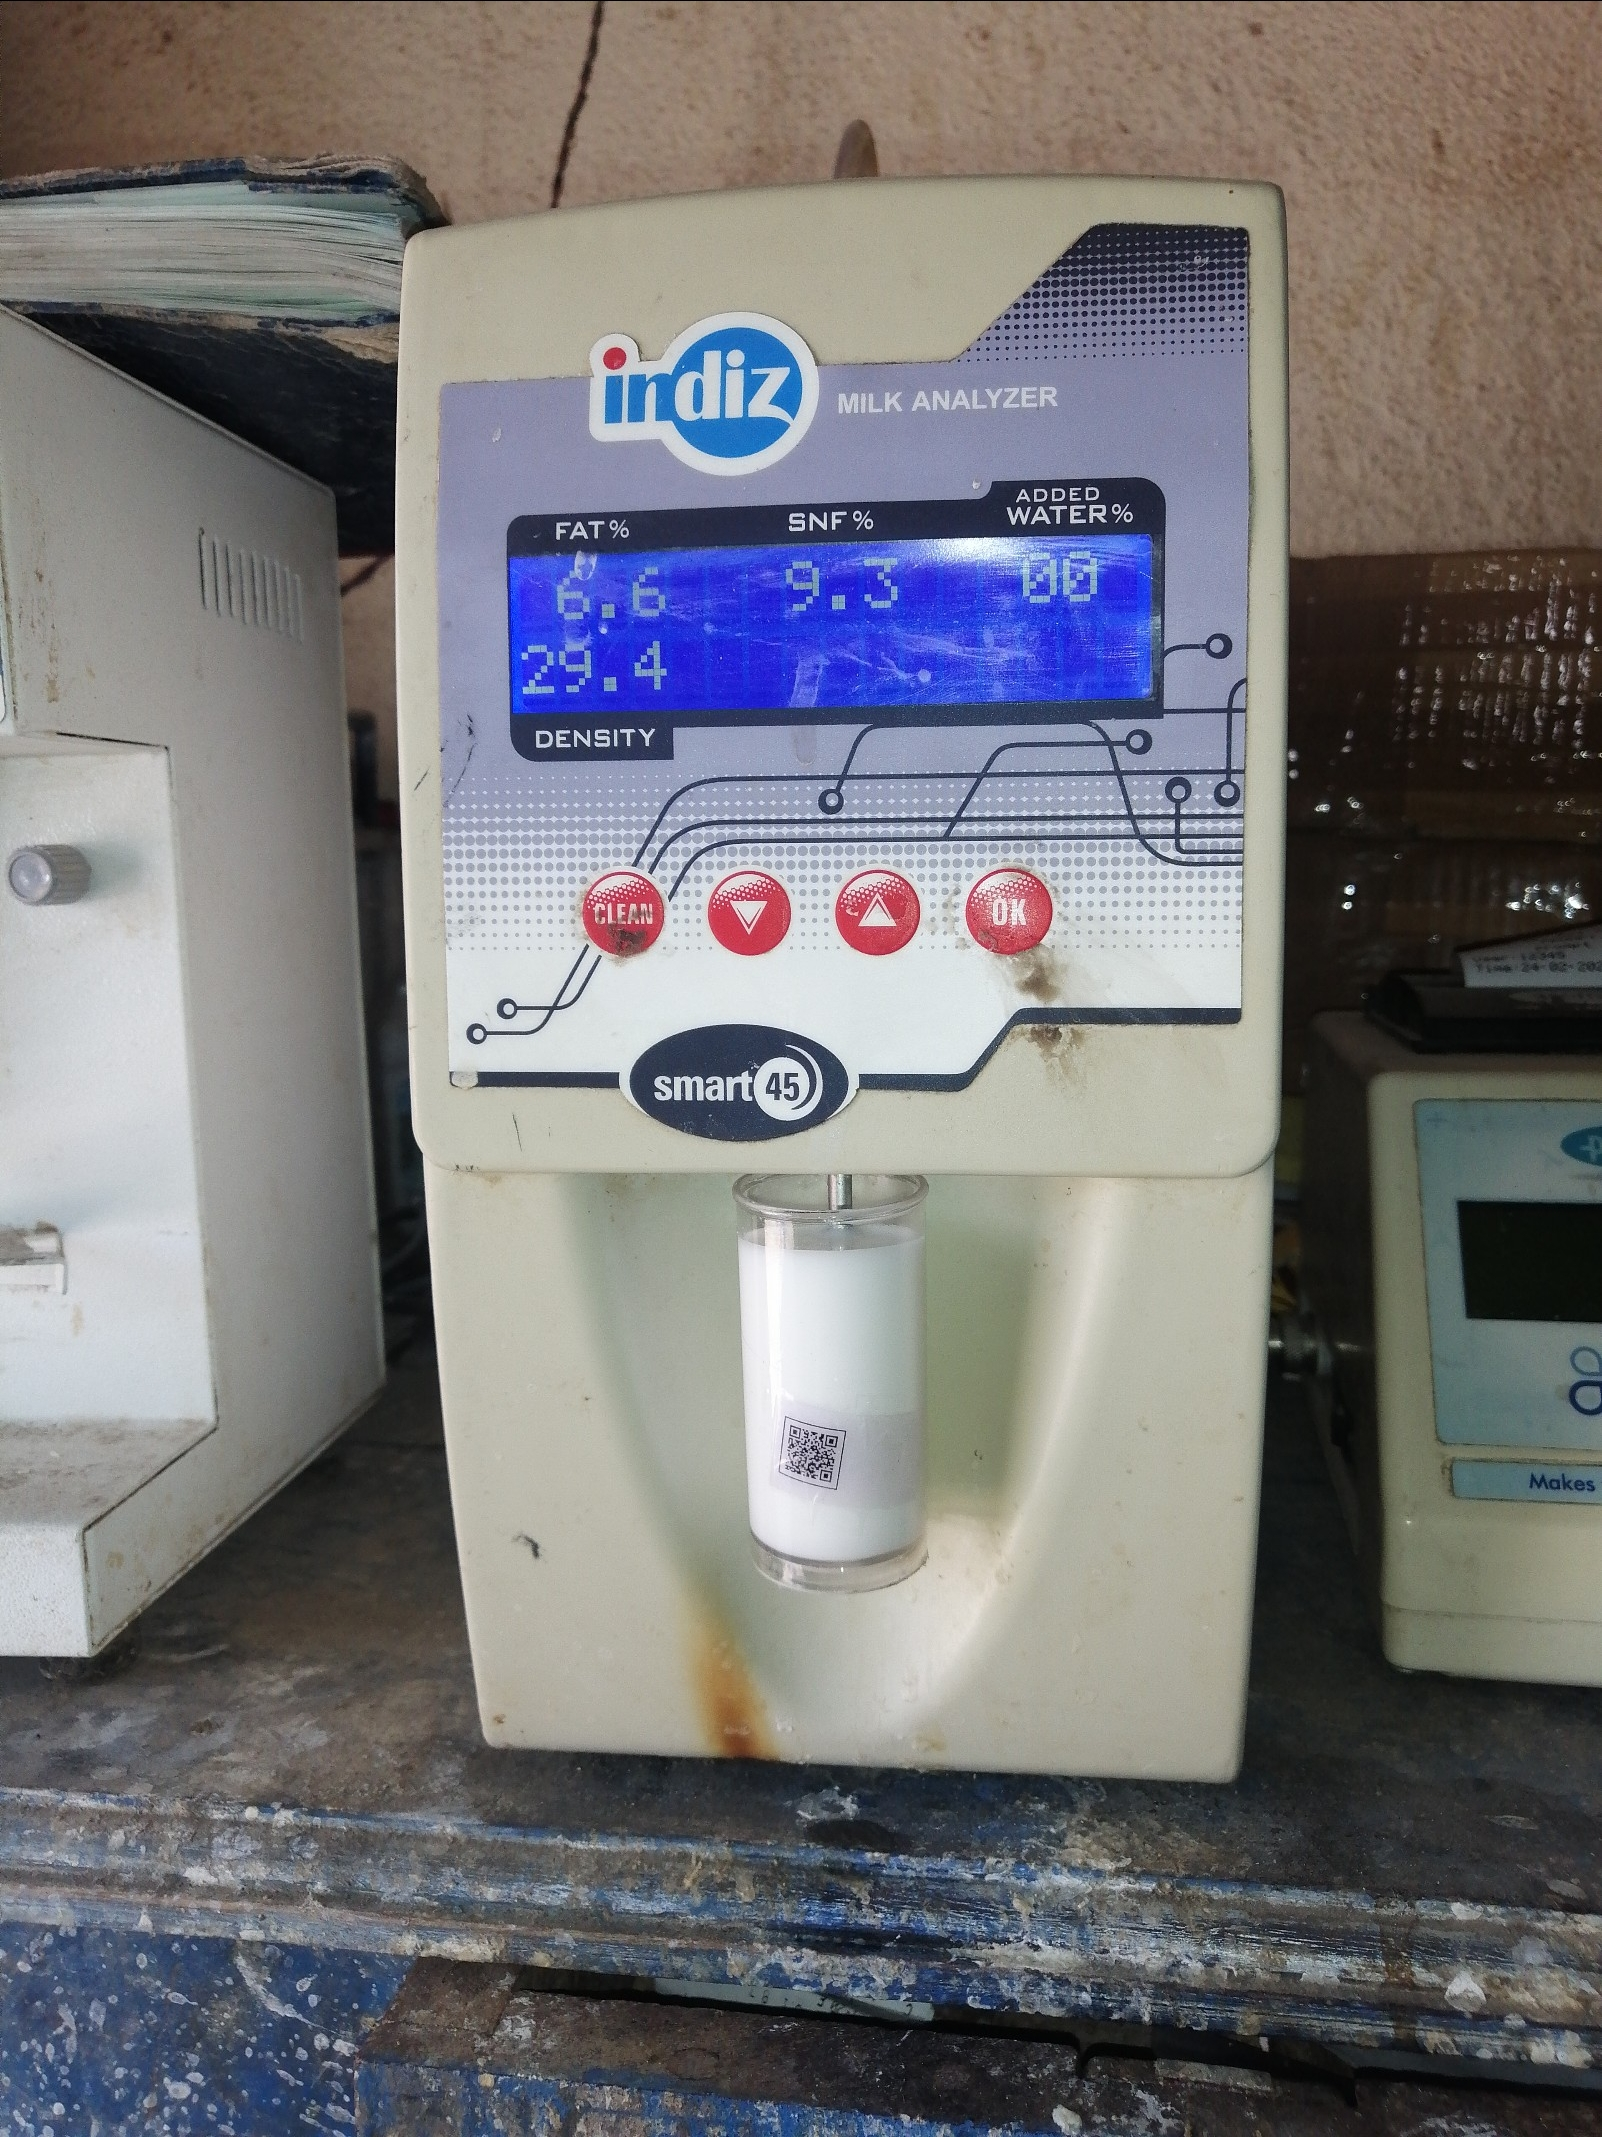lcd: (501, 508, 1175, 756)
qr: (752, 1412, 865, 1498)
